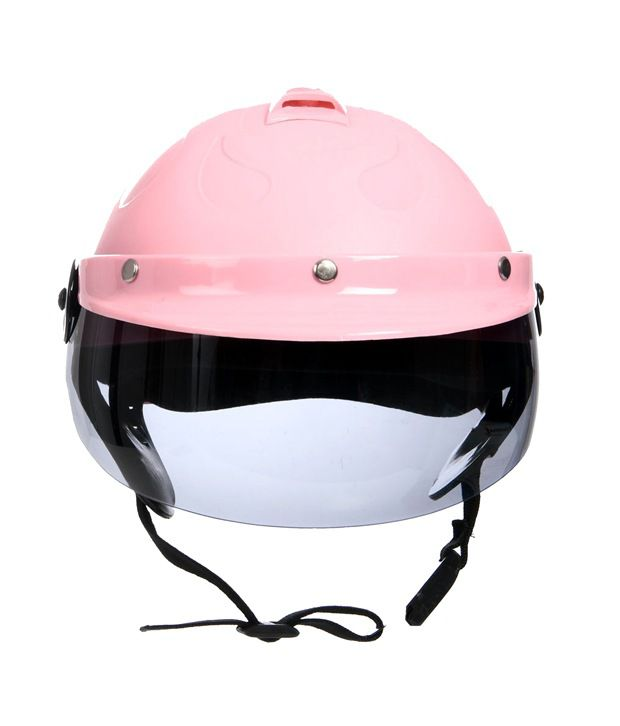with_helmet: (50, 77, 562, 548)
